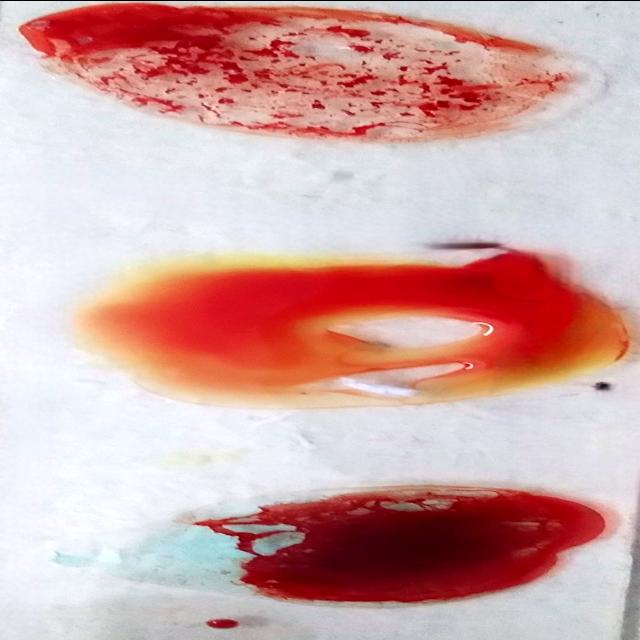A: (109, 481, 610, 608)
D: (14, 0, 604, 138)
